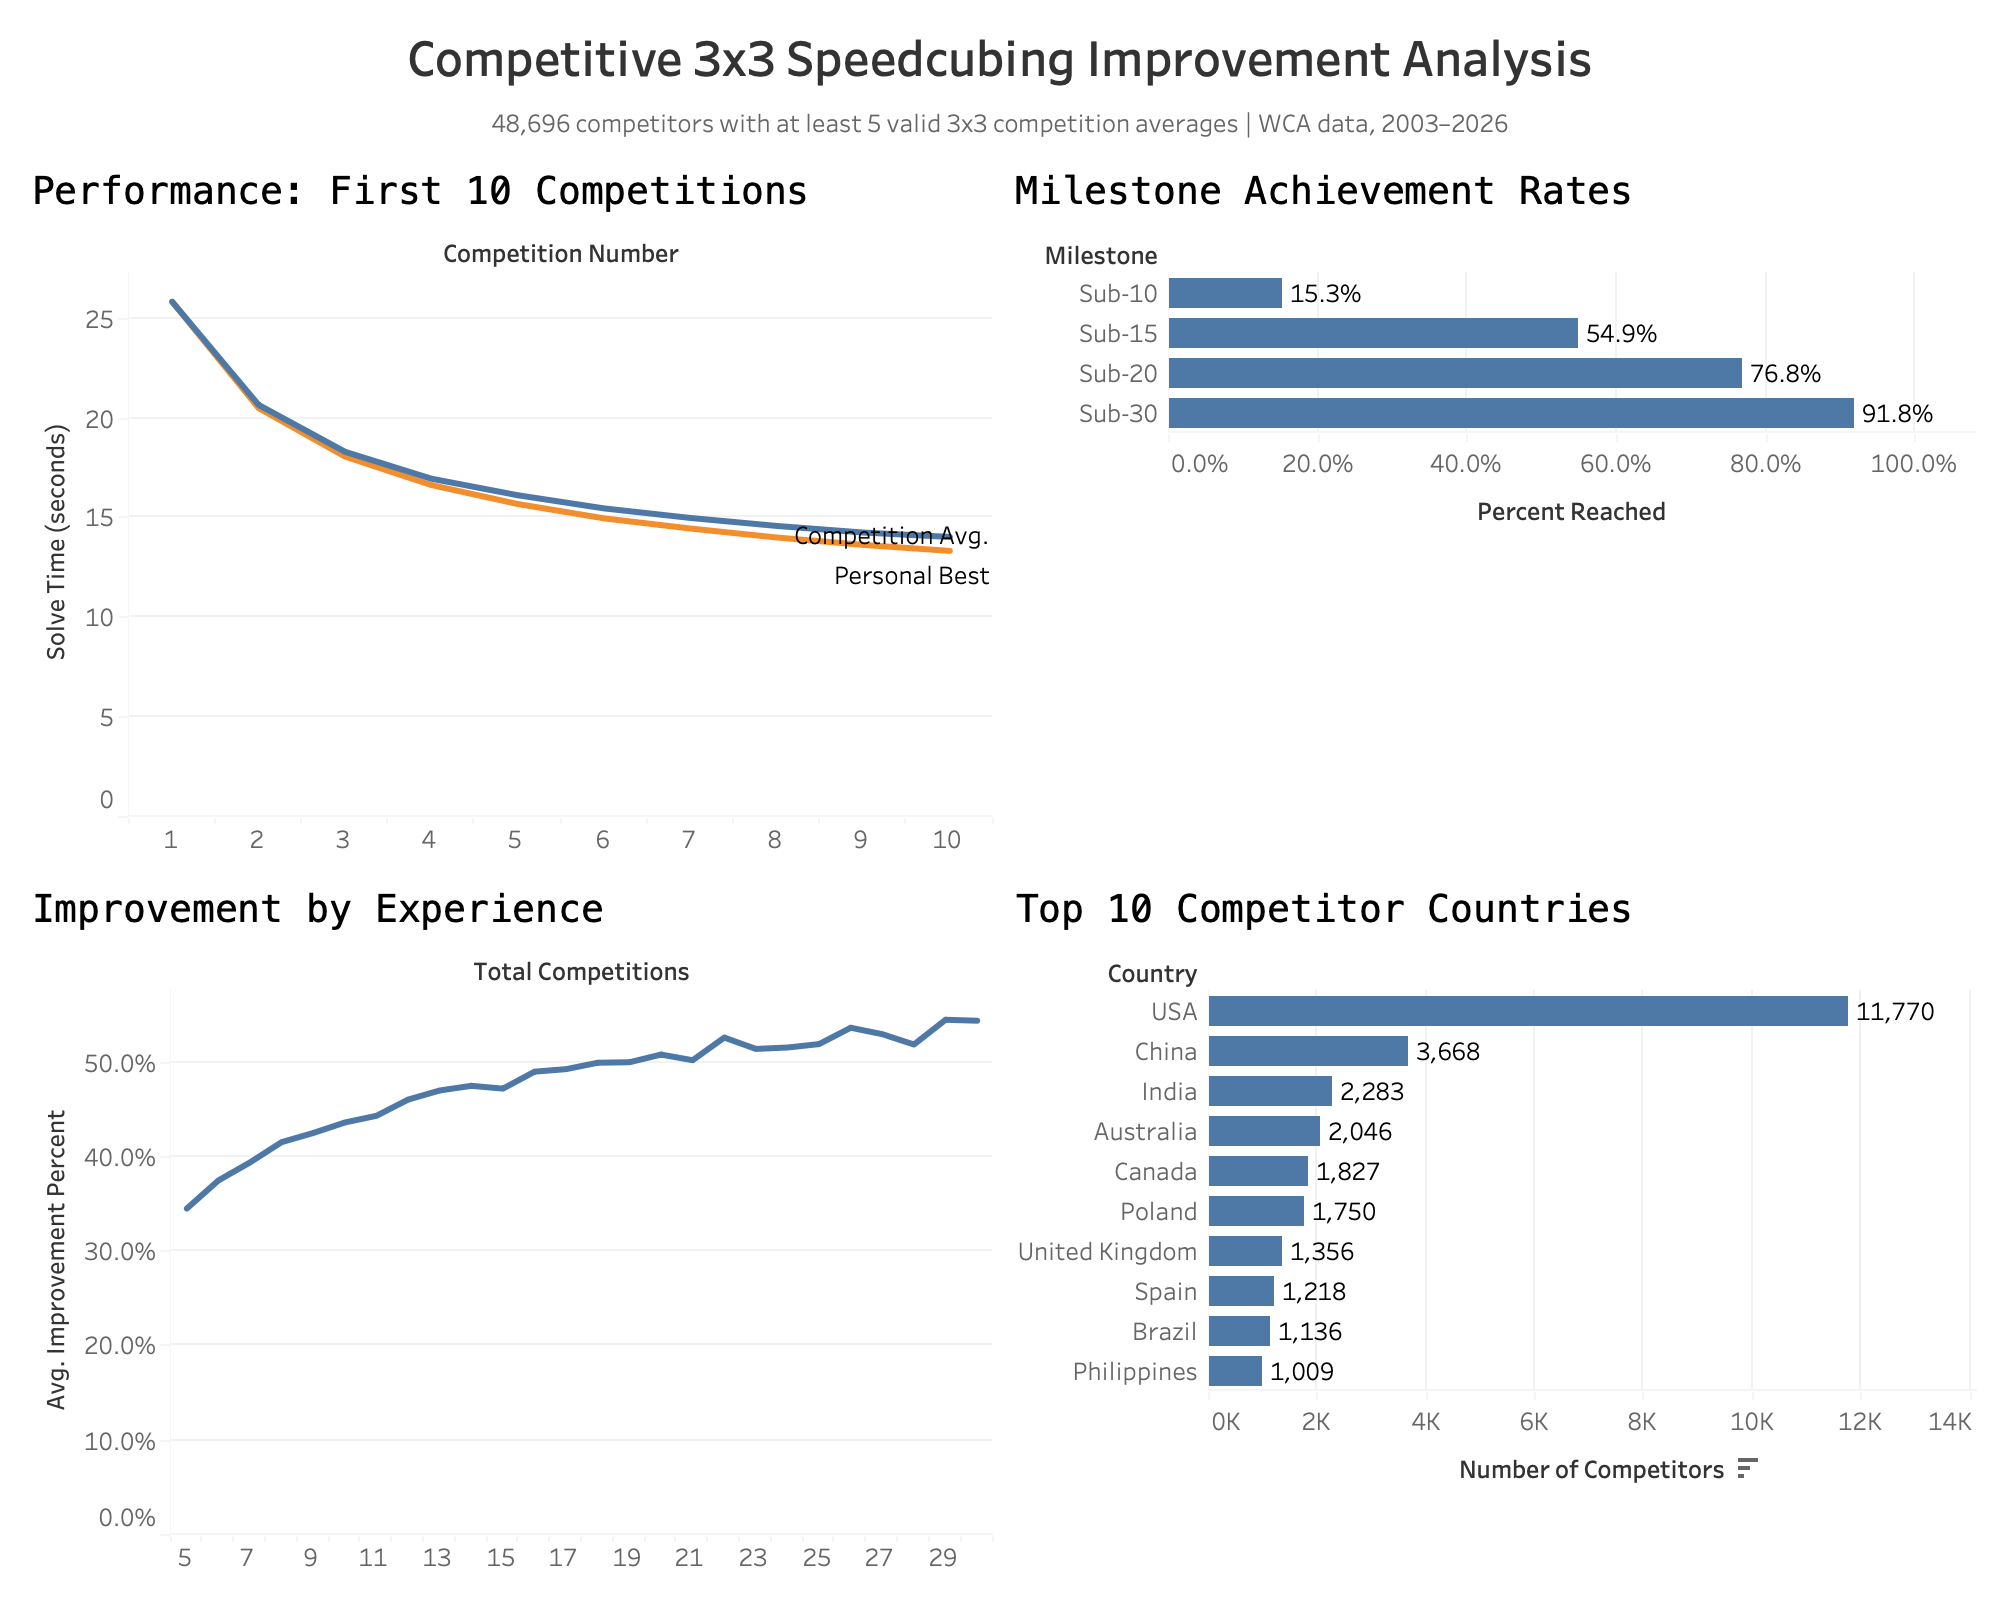

What the dashboard file says about the page in this screenshot:
{"tool":"tableau","page":{"name":"Competitive 3x3 Speedcubing Improvement Analysis","canvas":[1000,800],"ordinal":0},"visuals":[{"type":"title","box":[8,8,984,41]},{"type":"text","box":[8,49,984,25]},{"type":"worksheet","title":"Typical 3x3 Performance During the First 10 Competitions","mark":"Line","cols":["competition_number"],"box":[8,74,492,359]},{"type":"worksheet","title":"Share of Competitors Reaching Each 3x3 Milestone","mark":"Bar","rows":["milestone"],"cols":["percent_reached"],"box":[500,74,492,359]},{"type":"worksheet","title":"Average Improvement by Competition Experience","mark":"Line","rows":["improvement_percent"],"cols":["total_competitions"],"box":[8,433,492,359]},{"type":"worksheet","title":"Top 10 Countries by Number of Competitors","mark":"Bar","rows":["country"],"cols":["competitor_summary.csv_B3E6FB6BE77D4A6A9C1D95CE5BC1C9EA"],"box":[500,433,492,359]}]}

Visuals, with their boxes in screenshot pixels (x1, y1, x2, y2), scaled from the page's 1000x800 canvas onto the 2000x1600 screenshot:
title: rect(16, 16, 1984, 98)
text: rect(16, 98, 1984, 148)
"Typical 3x3 Performance During the First 10 Competitions" worksheet (Line marks): rect(16, 148, 1000, 866)
"Share of Competitors Reaching Each 3x3 Milestone" worksheet (Bar marks): rect(1000, 148, 1984, 866)
"Average Improvement by Competition Experience" worksheet (Line marks): rect(16, 866, 1000, 1584)
"Top 10 Countries by Number of Competitors" worksheet (Bar marks): rect(1000, 866, 1984, 1584)
